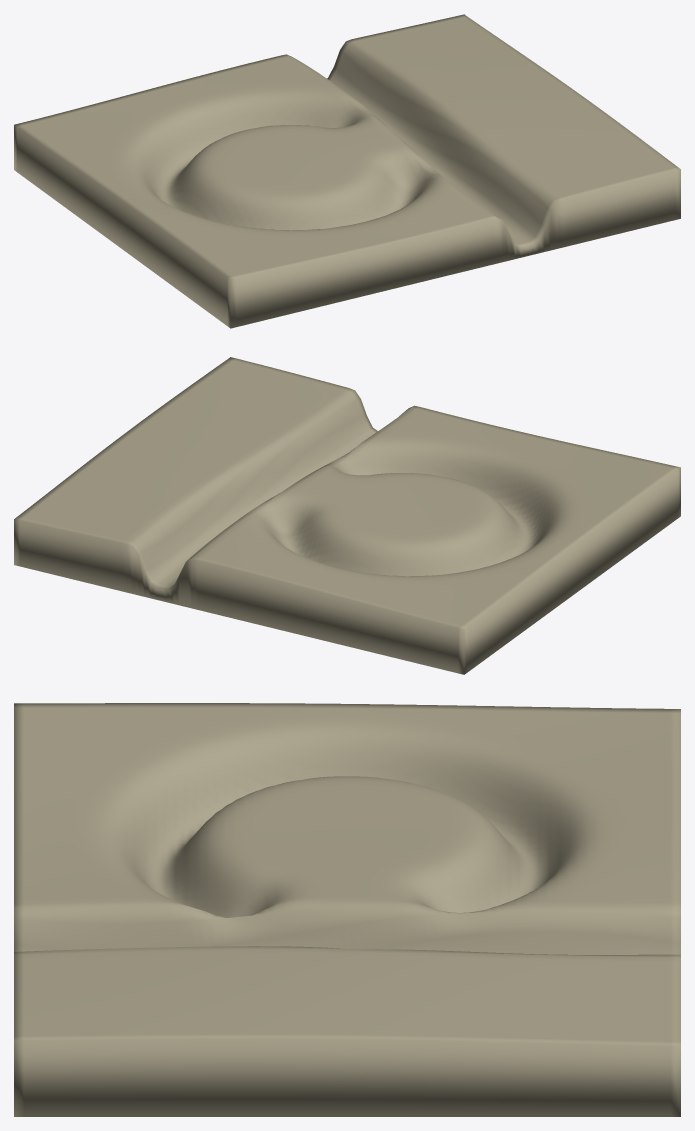
The model's file is oxbow-lake-basin.glb.
3 views of the same model, one above another, from view 1: azimuth 30°, elevation 25°; view 2: azimuth 150°, elevation 25°; view 3: azimuth 270°, elevation 25° (orthographic). The views are drawn at different scales.
Parts seen in each view (by area): view 1: continuous-floodplain-mainriver-and-separate-horseshoe-aband; view 2: continuous-floodplain-mainriver-and-separate-horseshoe-aband; view 3: continuous-floodplain-mainriver-and-separate-horseshoe-aband.
Part boxes in pixels (x1,y1,x2,y2): continuous-floodplain-mainriver-and-separate-horseshoe-aband: [14, 14, 680, 328]; continuous-floodplain-mainriver-and-separate-horseshoe-aband: [14, 357, 680, 674]; continuous-floodplain-mainriver-and-separate-horseshoe-aband: [14, 703, 680, 1116].
Size of the model in its own units: 18 by 1.97 by 15.
